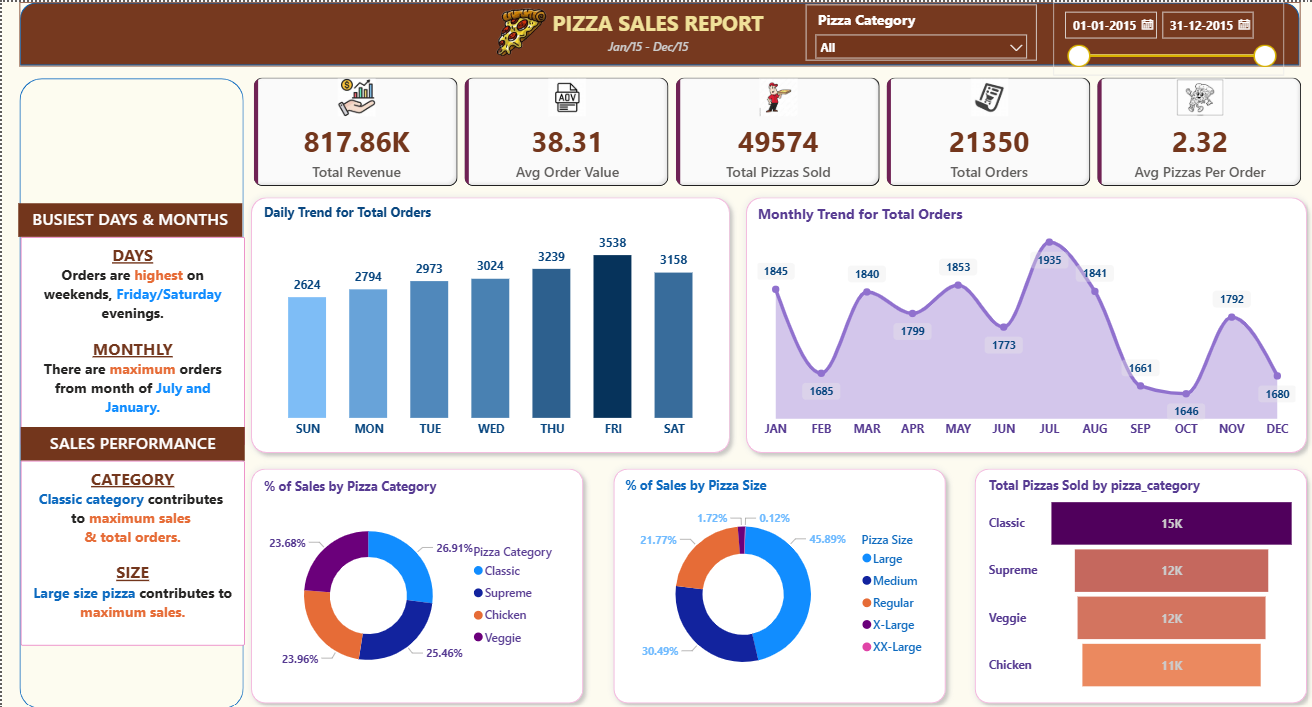

This screenshot's page, from the dashboard's own definition file:
{"tool":"powerbi","page":{"name":"Page 1","canvas":[1500,810],"ordinal":0},"visuals":[{"type":"cardVisual","fields":{"Data":["pizza_sales_power_bi pizzasales.Total Revenue","pizza_sales_power_bi pizzasales.Avg Order Value","pizza_sales_power_bi pizzasales.Total Pizzas Sold","pizza_sales_power_bi pizzasales.Total Orders","pizza_sales_power_bi pizzasales.Avg Pizzas Per Order"]},"box":[275,73.8,1223.8,148.8],"z":1000},{"type":"shape","box":[20,87.5,256.2,722.5],"z":1500},{"type":"shape","box":[20,0,1464,73.8],"z":2000},{"type":"textbox","box":[618.8,2.5,262.5,45],"z":3000},{"type":"image","box":[552.5,2.5,81.2,63.8],"z":4000},{"type":"textbox","box":[673.8,37.5,128.8,42.5],"z":5000},{"type":"shape","box":[276.2,213.8,565,310],"z":6000},{"type":"columnChart","title":"Daily Trend for Total Orders","fields":{"Y":["pizza_sales_power_bi pizzasales.Total Orders"],"Category":["pizza_sales_power_bi pizzasales.Order_Day"]},"box":[293.8,230,530,277.5],"z":7000},{"type":"shape","box":[841.2,213.8,658.8,310],"z":8000},{"type":"areaChart","title":"Monthly Trend for Total Orders","fields":{"Y":["pizza_sales_power_bi pizzasales.Total Orders"],"Category":["pizza_sales_power_bi pizzasales.Order_Month"]},"box":[858.8,230,625,277.5],"z":9000},{"type":"shape","box":[276.2,523.8,397.5,286.2],"z":10000},{"type":"shape","box":[690,523.8,397.5,286.2],"z":11000},{"type":"shape","box":[1102.5,523.8,397.5,286.2],"z":12000},{"type":"donutChart","title":"% of Sales by Pizza Category","fields":{"Category":["pizza_sales_power_bi pizzasales.pizza_category"],"Y":["pizza_sales_power_bi pizzasales.Total Revenue"]},"box":[293.8,542.5,361.2,251.2],"z":13000},{"type":"donutChart","title":"% of Sales by Pizza Size","fields":{"Y":["pizza_sales_power_bi pizzasales.Total Revenue"],"Category":["pizza_sales_power_bi pizzasales.pizza_size"]},"box":[707.5,541.2,361.2,251.2],"z":14000},{"type":"funnel","fields":{"Category":["pizza_sales_power_bi pizzasales.pizza_category"],"Y":["pizza_sales_power_bi pizzasales.Total Pizzas Sold"]},"box":[1122.5,541.2,361.2,251.2],"z":15000},{"type":"textbox","box":[18.8,230,256.2,38.8],"z":16000},{"type":"textbox","box":[21.2,268.8,256.2,238.8],"z":17000},{"type":"textbox","box":[21.2,485,256.2,38.8],"z":17001},{"type":"textbox","box":[21.2,523.8,256.2,211.2],"z":17002},{"type":"slicer","fields":{"Values":["pizza_sales_power_bi pizzasales.pizza_category"]},"box":[918.8,2.5,263.8,63.8],"z":17003},{"type":"slicer","fields":{"Values":["pizza_sales_power_bi pizzasales.order_date"]},"box":[1201.2,0,263.8,83.8],"z":17004}]}

Visuals, with their boxes in screenshot pixels (x1, y1, x2, y2), scaled from the page's 1500x810 canvas onto the 1312x707 screenshot:
cardVisual - pizza_sales_power_bi pizzasales.Total Revenue x pizza_sales_power_bi pizzasales.Avg Order Value: bbox(241, 64, 1311, 194)
shape: bbox(17, 76, 242, 706)
shape: bbox(17, 0, 1298, 64)
textbox: bbox(541, 2, 771, 41)
image: bbox(483, 2, 554, 58)
textbox: bbox(589, 33, 702, 70)
shape: bbox(242, 187, 736, 457)
"Daily Trend for Total Orders" columnChart: bbox(257, 201, 721, 443)
shape: bbox(736, 187, 1311, 457)
"Monthly Trend for Total Orders" areaChart: bbox(751, 201, 1298, 443)
shape: bbox(242, 457, 589, 706)
shape: bbox(604, 457, 951, 706)
shape: bbox(964, 457, 1311, 706)
"% of Sales by Pizza Category" donutChart: bbox(257, 474, 573, 693)
"% of Sales by Pizza Size" donutChart: bbox(619, 472, 935, 692)
funnel - pizza_sales_power_bi pizzasales.pizza_category x pizza_sales_power_bi pizzasales.Total Pizzas Sold: bbox(982, 472, 1298, 692)
textbox: bbox(16, 201, 241, 235)
textbox: bbox(19, 235, 243, 443)
textbox: bbox(19, 423, 243, 457)
textbox: bbox(19, 457, 243, 642)
slicer - pizza_sales_power_bi pizzasales.pizza_category: bbox(804, 2, 1034, 58)
slicer - pizza_sales_power_bi pizzasales.order_date: bbox(1051, 0, 1281, 73)
